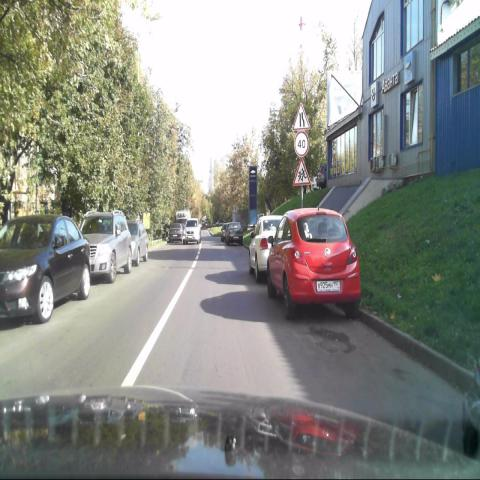1_20_2: (291, 100, 312, 132)
1_23: (292, 158, 312, 188)
3_24: (293, 128, 309, 159)
